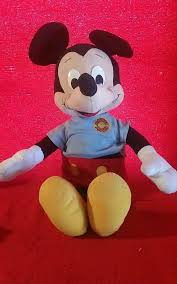Mickey: (27, 19, 136, 120)
